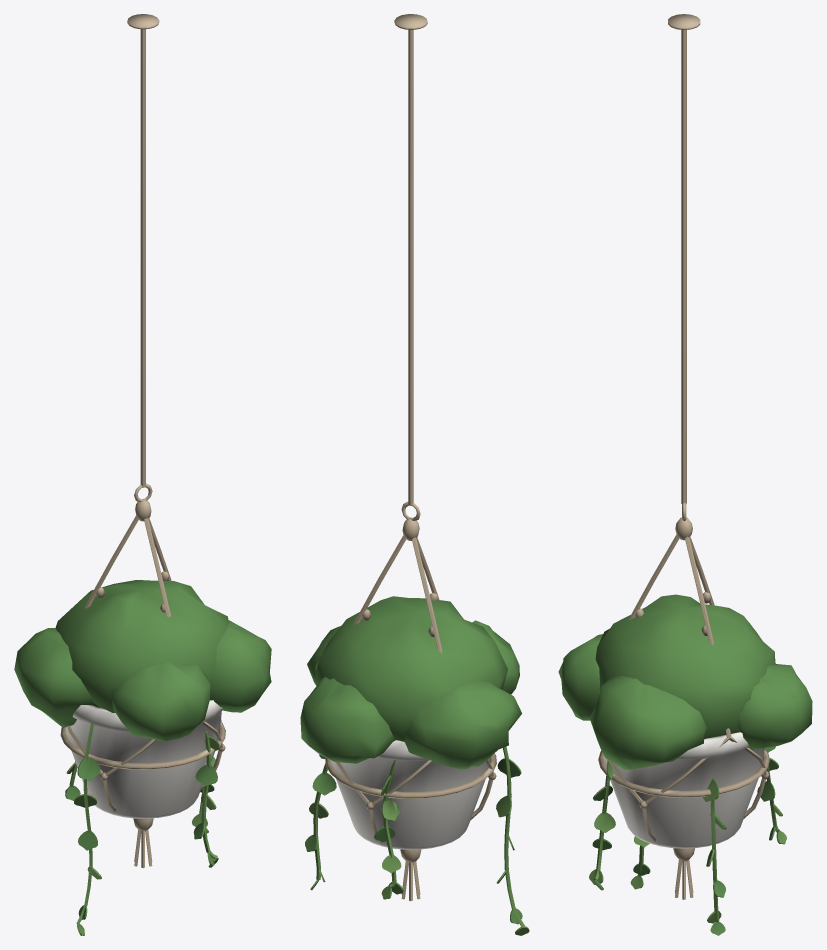
File: hangingPlant.glb
3 renders of one model, left to right at view 1: azimuth 30°, elevation 25°; view 2: azimuth 150°, elevation 25°; view 3: azimuth 270°, elevation 25°, orthographic. The views are drawn at different scales.
Parts seen in each view (by area): view 1: plant; view 2: plant; view 3: plant.
Boxes of the visible parts, box(x1,y1,x2,y2) form: plant: box(14, 29, 271, 935); plant: box(300, 29, 529, 935); plant: box(558, 30, 812, 935).
Size of the model in its own units: 0.4535 by 1.81 by 0.4581.
